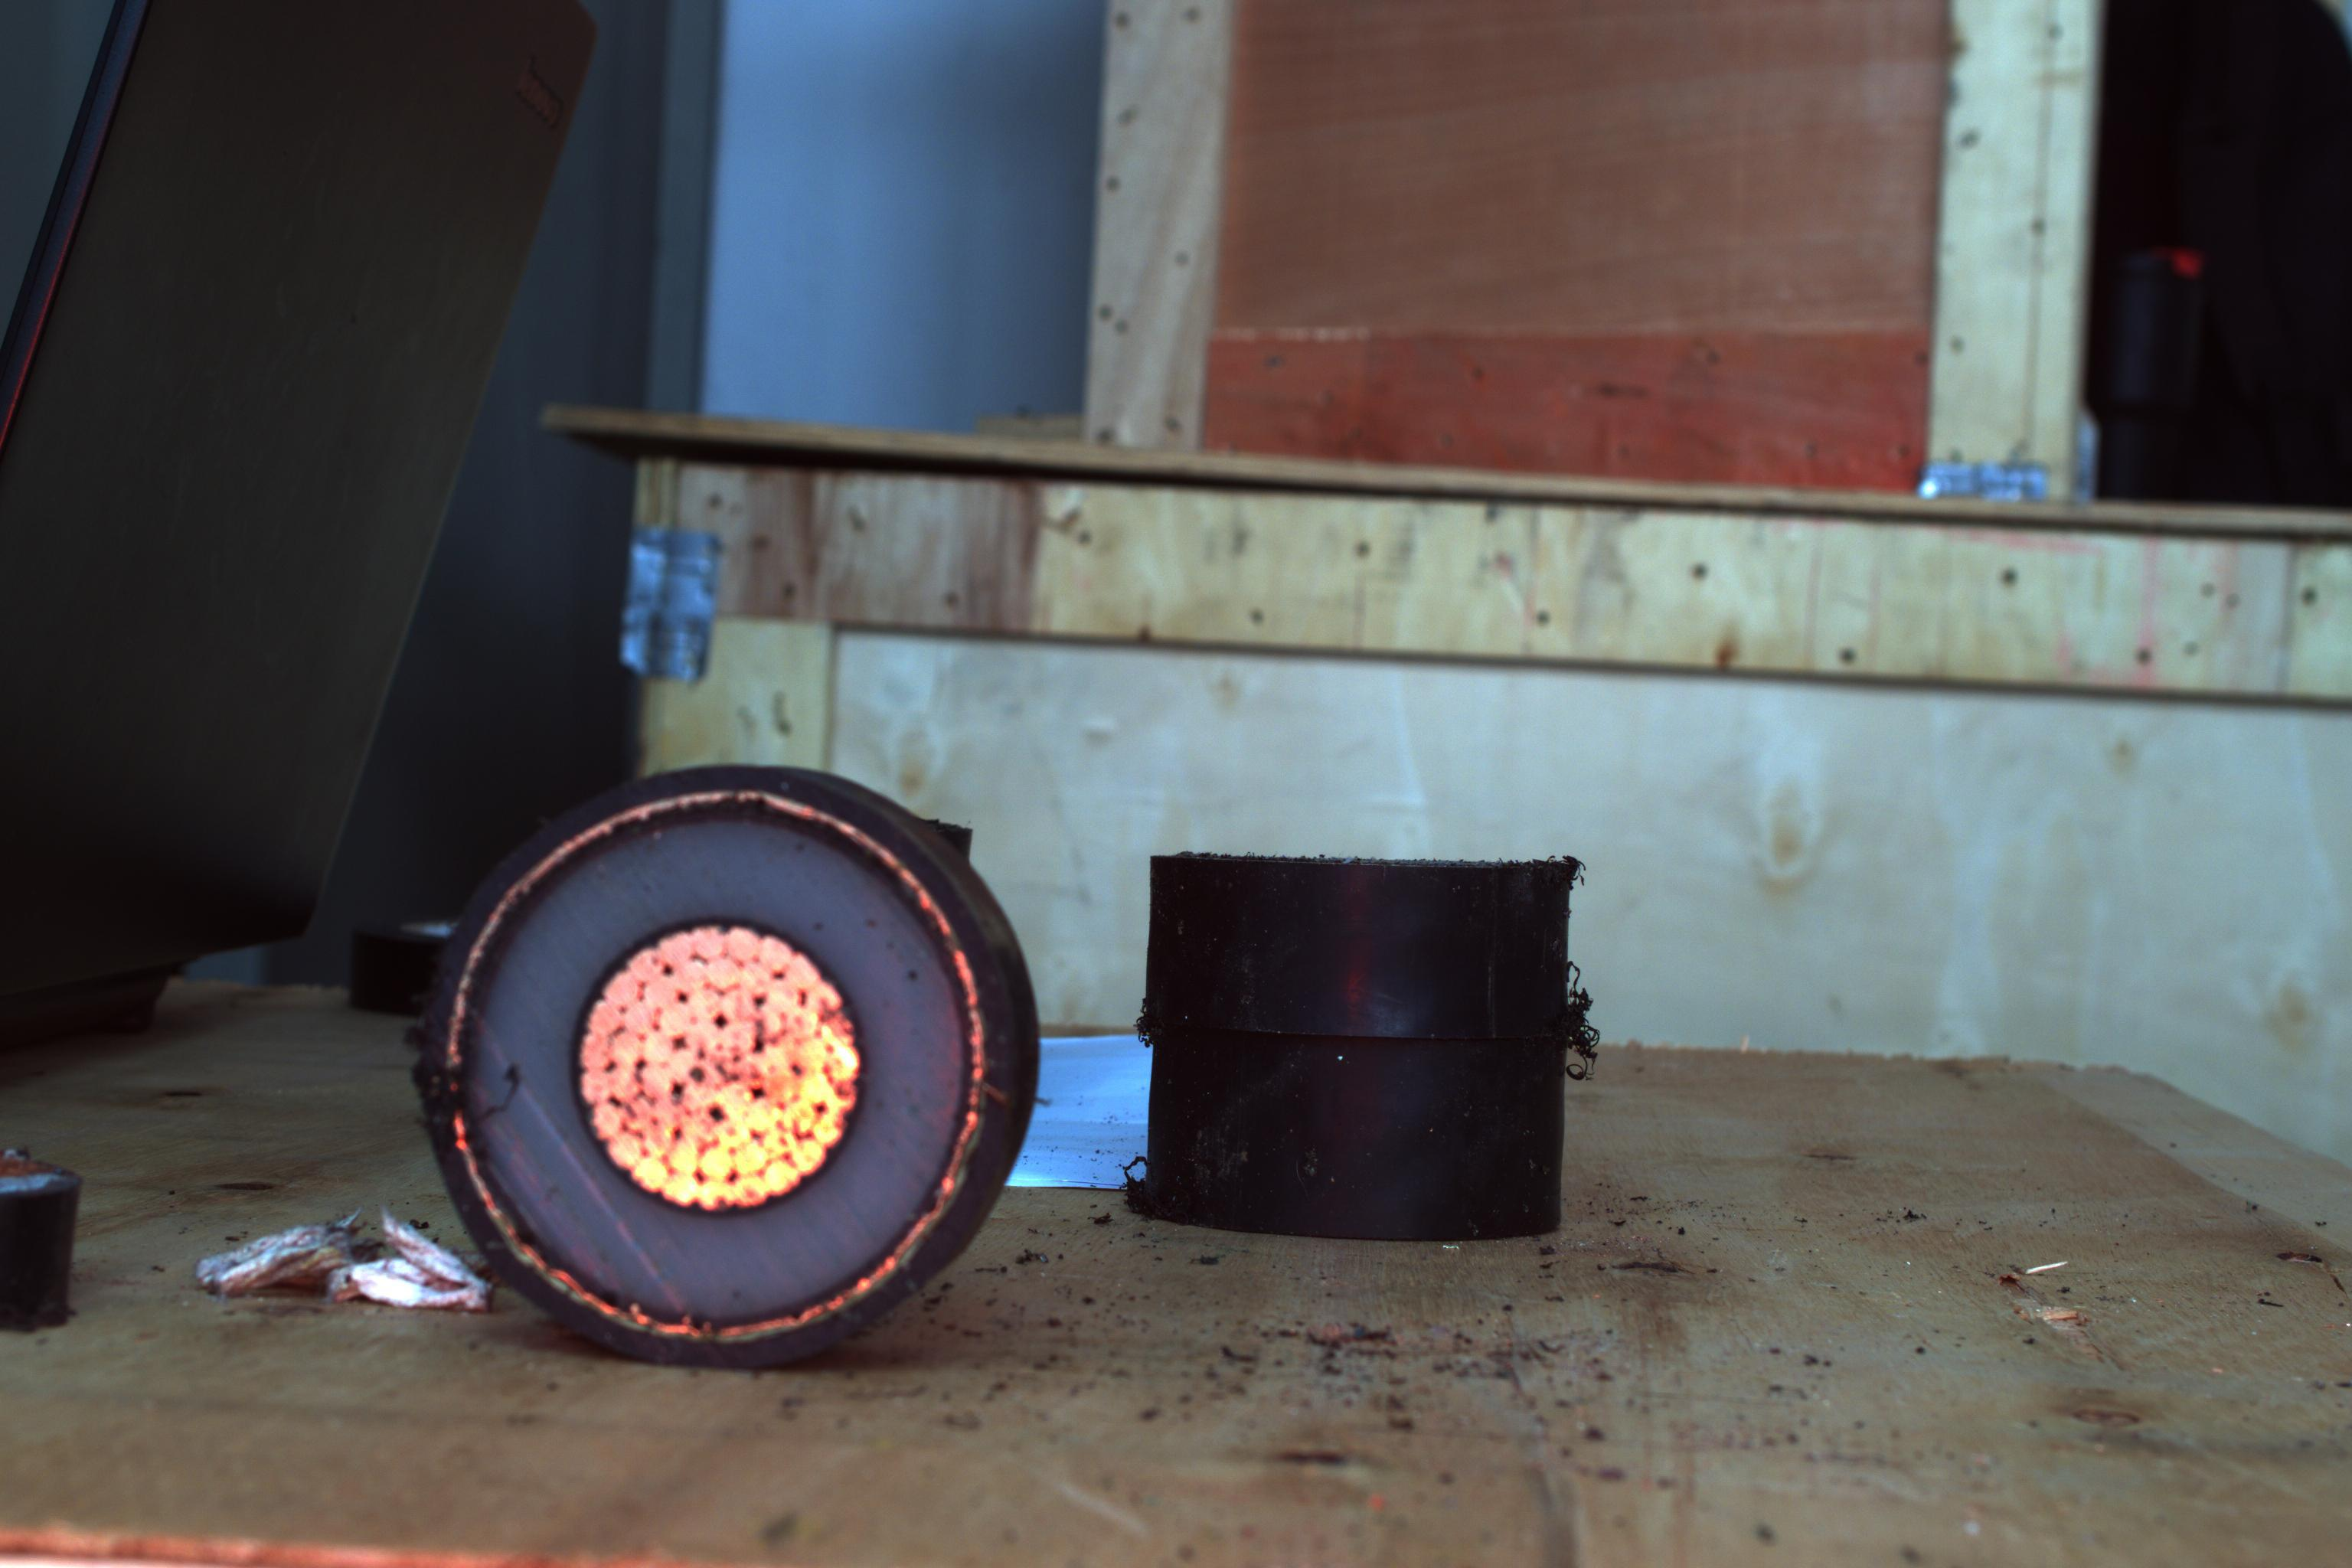YJV_26_35kV_1x630: (429, 777, 996, 1361)
